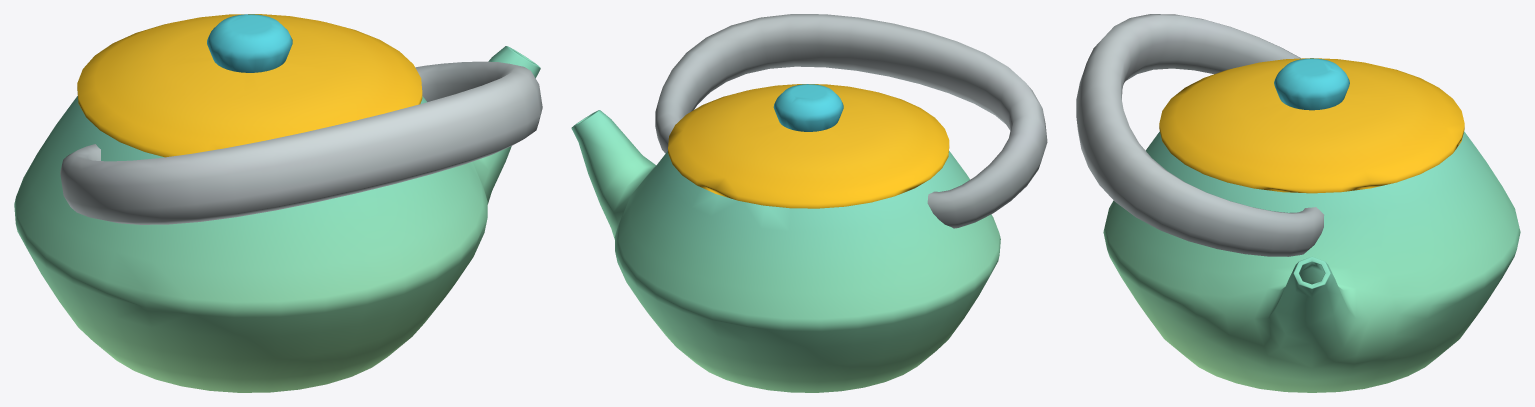
Rendered from TeaPot.fbx.
The picture shows the model from 3 angles, left to right: view 1: azimuth 30°, elevation 25°; view 2: azimuth 150°, elevation 25°; view 3: azimuth 270°, elevation 25°; orthographic projection. The views are drawn at different scales.
Parts seen in each view (by area): view 1: Sphere, Sphere.001, NurbsPath.010; view 2: Sphere, Sphere.001, NurbsPath.010; view 3: Sphere, Sphere.001, NurbsPath.010.
Boxes of the visible parts, x1,y1,x2,y2 form: Sphere: [14, 46, 540, 392]; Sphere.001: [77, 14, 422, 157]; NurbsPath.010: [60, 61, 542, 224]; Sphere: [571, 110, 1000, 392]; Sphere.001: [668, 84, 949, 208]; NurbsPath.010: [655, 14, 1047, 228]; Sphere: [1103, 131, 1520, 392]; Sphere.001: [1159, 58, 1464, 193]; NurbsPath.010: [1076, 14, 1324, 256].
Bounding box in the file's own units: 4.07 × 2.43 × 3.5.
